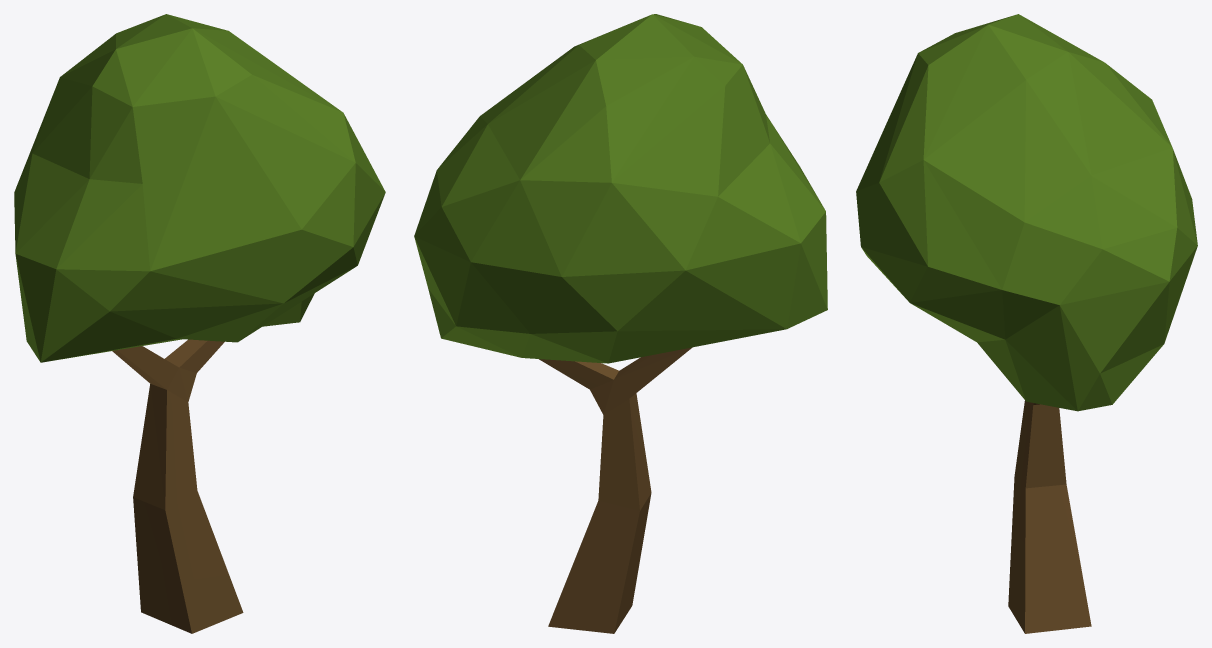
3 renders of one model, left to right at view 1: azimuth 30°, elevation 25°; view 2: azimuth 150°, elevation 25°; view 3: azimuth 270°, elevation 25°, orthographic. The views are drawn at different scales.
Visible parts, largest first — view 1: Tree1_5; view 2: Tree1_5; view 3: Tree1_5.
Part boxes in pixels (x1=…): Tree1_5: x1=14, y1=14, x2=385, y2=633; Tree1_5: x1=414, y1=14, x2=827, y2=633; Tree1_5: x1=856, y1=14, x2=1197, y2=633.
Size of the model in its own units: 152 by 254 by 136.
